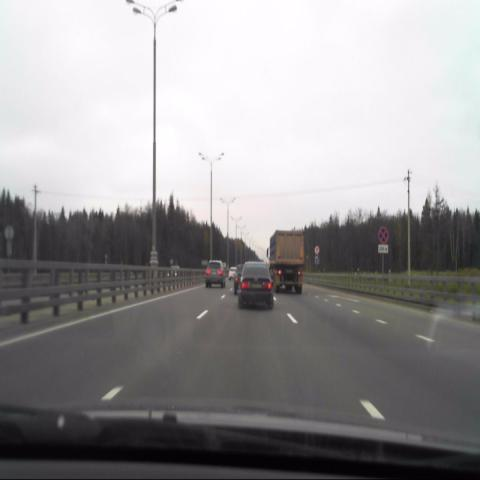3_27: (378, 226, 388, 244)
